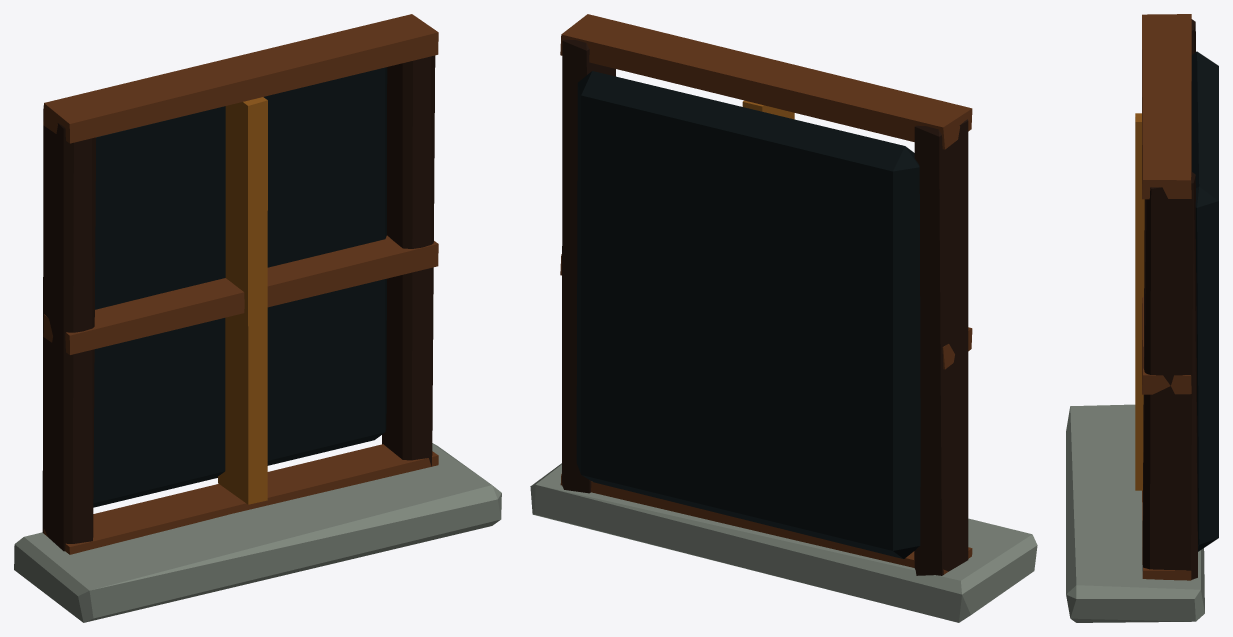
The model's file is Janela_trabalhada_LOD1.fbx.
3 views of the same model, side by side, from view 1: azimuth 30°, elevation 25°; view 2: azimuth 150°, elevation 25°; view 3: azimuth 270°, elevation 25° (orthographic). The views are drawn at different scales.
Visible parts, largest first — view 1: Janela_trabalhada_LOD1; view 2: Janela_trabalhada_LOD1; view 3: Janela_trabalhada_LOD1.
Boxes of the visible parts, x1,y1,x2,y2 form: Janela_trabalhada_LOD1: (14,14,501,622); Janela_trabalhada_LOD1: (530,14,1037,622); Janela_trabalhada_LOD1: (1066,14,1218,622).
Bounding box in the file's own units: 130 × 138 × 44.
1 material, 1 textured.
